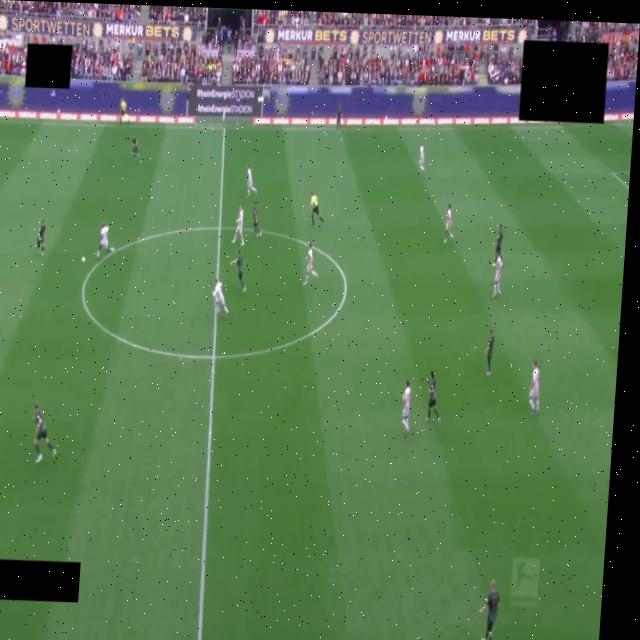ball: (81, 256, 86, 263)
player: (33, 402, 55, 464), (479, 580, 499, 639), (426, 371, 440, 422), (96, 223, 114, 259), (230, 249, 245, 291), (303, 244, 318, 285), (213, 280, 229, 316), (529, 362, 540, 413), (232, 204, 244, 246), (402, 380, 411, 433), (493, 224, 503, 266), (492, 256, 502, 298), (486, 330, 494, 375), (36, 219, 45, 256), (247, 165, 257, 197), (444, 204, 452, 242), (253, 202, 261, 237), (132, 135, 141, 163), (336, 105, 342, 133), (419, 144, 424, 171)
referee: (310, 193, 324, 225)
